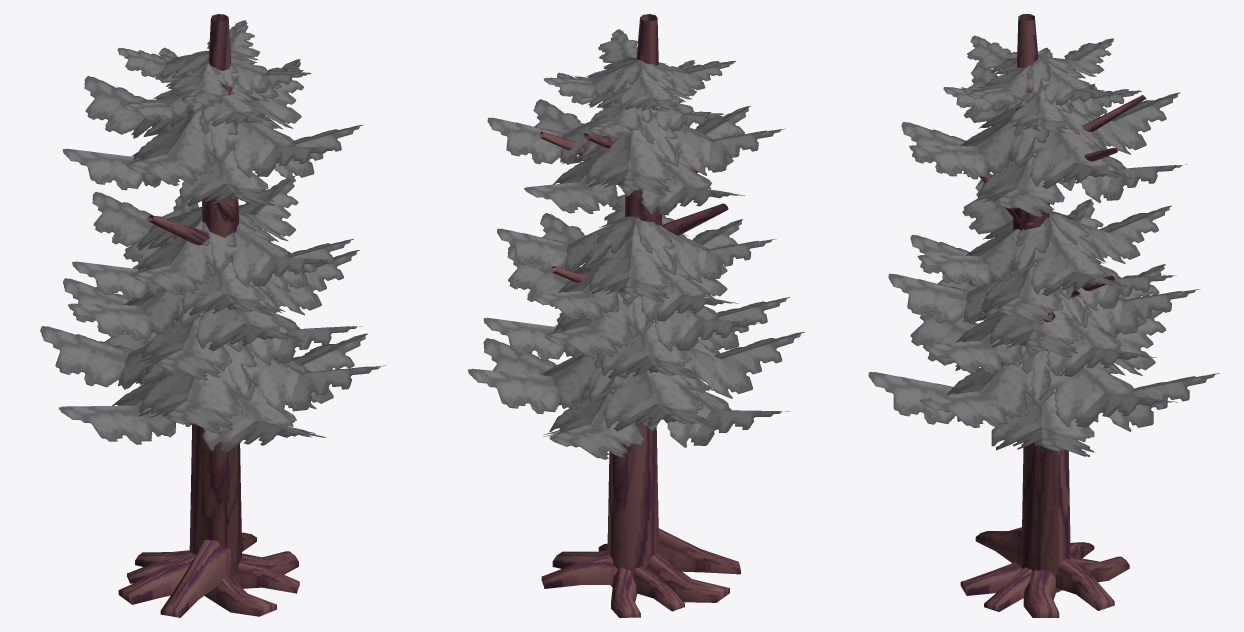
The model's file is Pinheiro2.fbx.
The picture shows the model from 3 angles, left to right: view 1: azimuth 30°, elevation 25°; view 2: azimuth 150°, elevation 25°; view 3: azimuth 270°, elevation 25°; orthographic projection. The views are drawn at different scales.
Visible parts, largest first — view 1: Pinheiro.001, Pinheiro; view 2: Pinheiro.001, Pinheiro; view 3: Pinheiro.001, Pinheiro.
Part boxes in pixels (x1,y1,x2,y2): Pinheiro.001: (40,20,386,452); Pinheiro: (118,14,299,617); Pinheiro.001: (468,29,804,459); Pinheiro: (541,14,740,617); Pinheiro.001: (868,35,1219,456); Pinheiro: (960,14,1129,617).
Bounding box in the file's own units: 569 × 569 × 966.
